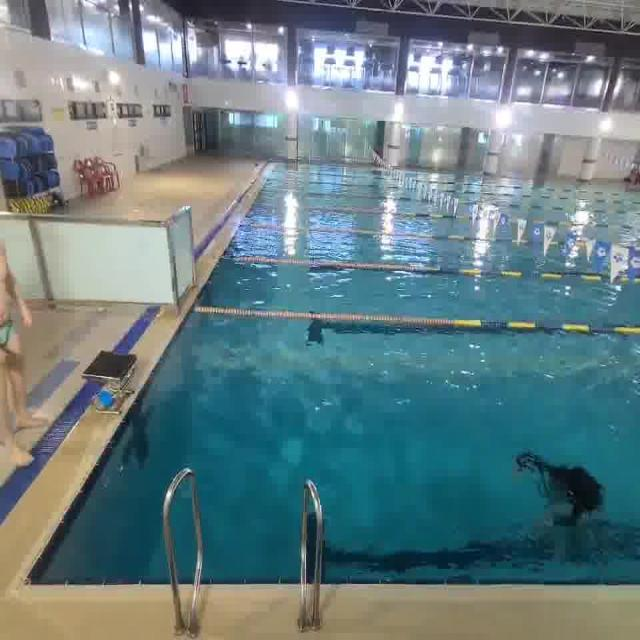drowning: (510, 438, 628, 552)
